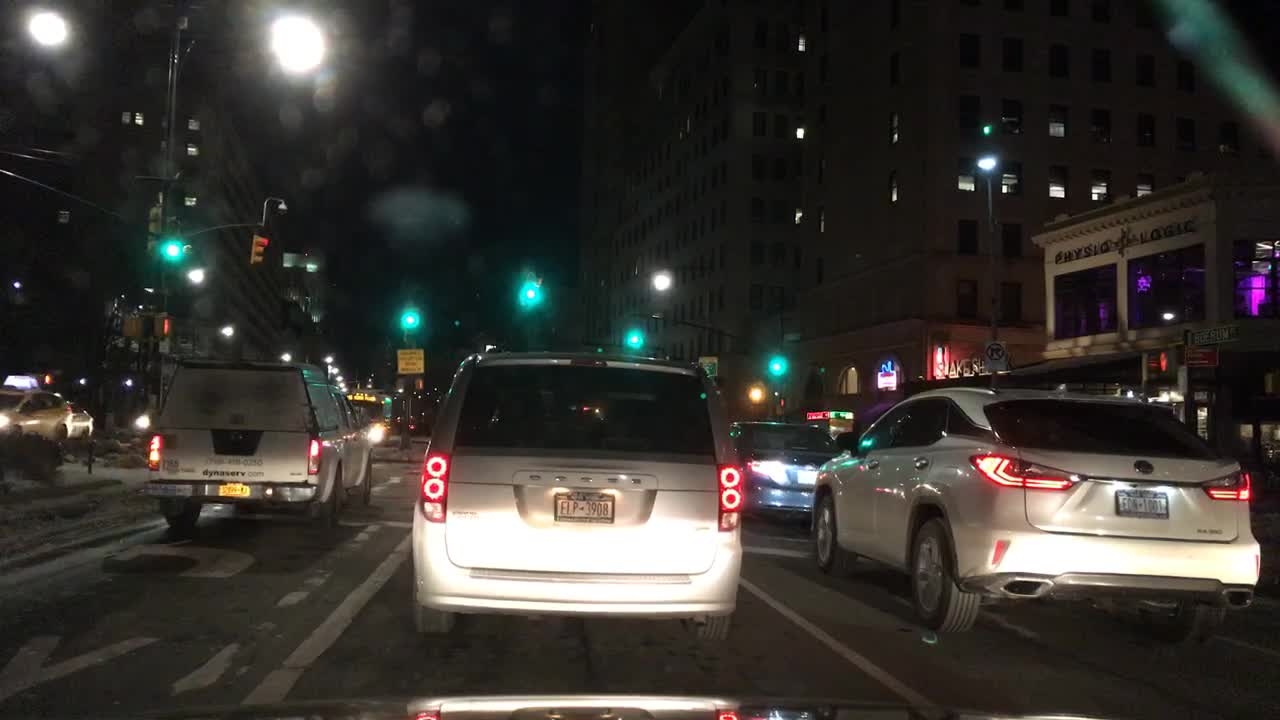bus: (346, 392, 391, 449)
car: (808, 386, 1260, 645), (409, 344, 743, 638), (141, 359, 372, 537), (727, 419, 836, 519), (0, 375, 72, 443), (60, 404, 96, 440), (394, 413, 418, 431)
traffic light: (161, 217, 182, 259), (246, 230, 269, 263), (400, 293, 418, 327), (624, 314, 643, 345), (1155, 350, 1181, 372), (522, 268, 537, 305), (120, 316, 146, 336), (152, 313, 174, 336), (769, 345, 782, 375), (775, 393, 787, 410), (43, 374, 56, 386)
traffic sign: (1190, 326, 1239, 345), (396, 348, 424, 374), (984, 341, 1008, 371), (1185, 348, 1224, 366), (697, 357, 716, 375)
